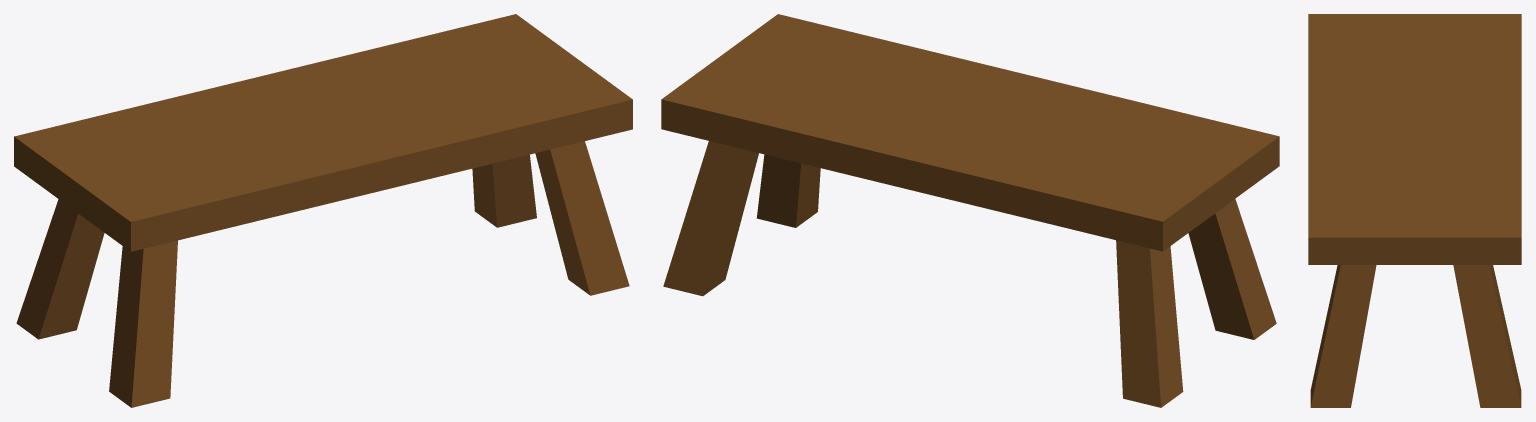
File: tableSquare.fbx
3 renders of one model, left to right at view 1: azimuth 30°, elevation 25°; view 2: azimuth 150°, elevation 25°; view 3: azimuth 270°, elevation 25°, orthographic. The views are drawn at different scales.
Parts seen in each view (by area): view 1: Cube; view 2: Cube; view 3: Cube.
Part boxes in pixels (box(x1,y1,x2,y2)): Cube: box(14, 14, 632, 407); Cube: box(661, 14, 1279, 407); Cube: box(1308, 14, 1521, 407).
Size of the model in its own units: 408 by 145 by 164.
